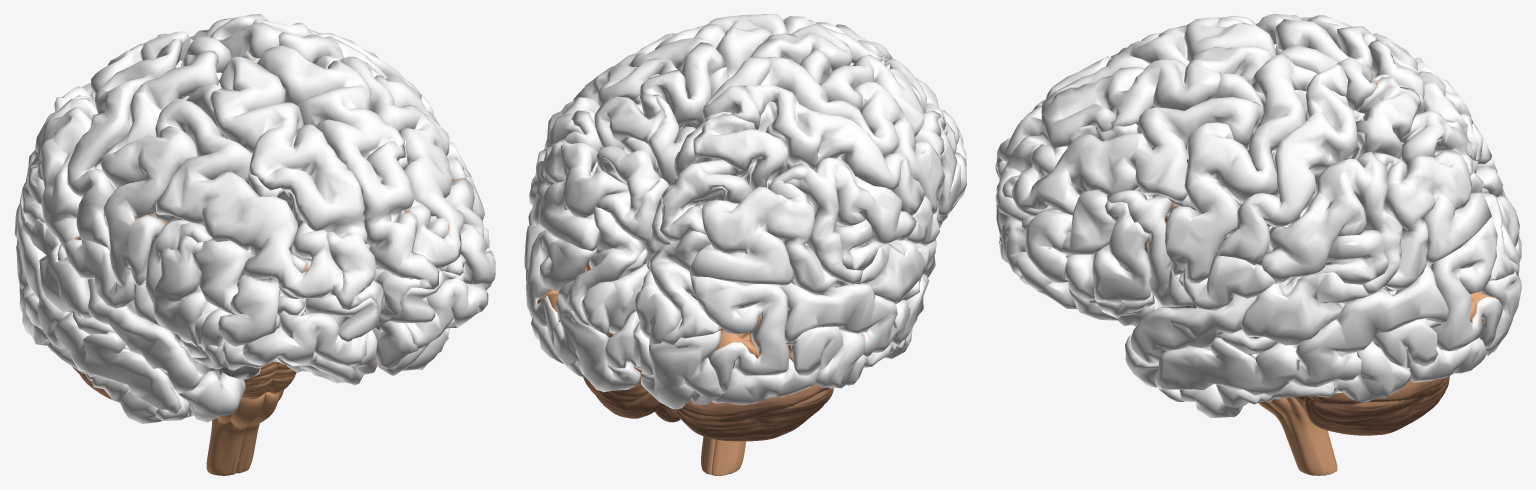
File: Brain.glb
3 views of the same model, side by side, from view 1: azimuth 30°, elevation 25°; view 2: azimuth 150°, elevation 25°; view 3: azimuth 270°, elevation 25° (orthographic). The views are drawn at different scales.
Visible parts, largest first — view 1: Middle frontal gyrus_R, Superior frontal gyrus_R, Superior frontal gyrus_L, Precentral gyrus_R, Middle frontal gyrus_L, Middle temporal gyrus_R, Superior temporal gyrus (Lateral part)_R, Postcentral gyrus_R, Supramarginal gyrus_R, Orbital gyri (Frontomarginal gyrus and sulcus*)_R, Triangular part of inferior frontal gyrus_R, Inferior frontal sulcus_R (+28 smaller); view 2: Angular gyrus_R, Superior parietal lobule_R, Postcentral gyrus_R, Supramarginal gyrus_R, Lateral occipital gyrus (Middle occipital gyrus*)_R, Angular gyrus_L, Precentral gyrus_R, Middle temporal gyrus_R, Superior parietal lobule_L, Cerebellum_R, Occipital pole_R, Middle frontal gyrus_R (+31 smaller); view 3: Middle frontal gyrus_L, Precentral gyrus_L, Middle temporal gyrus_L, Superior frontal gyrus_L, Superior temporal gyrus (Lateral part)_L, Postcentral gyrus_L, Supramarginal gyrus_L, Angular gyrus_L, Inferior temporal gyrus_L, Superior frontal gyrus_R, Superior parietal lobule_L, Lateral occipital gyrus (Middle occipital gyrus*)_L (+26 smaller).
Part boxes in pixels (box(x1,y1,x2,y2)): Middle frontal gyrus_R: box(155, 98, 343, 346); Superior frontal gyrus_R: box(210, 56, 383, 318); Superior frontal gyrus_L: box(242, 45, 439, 330); Precentral gyrus_R: box(101, 50, 219, 286); Middle frontal gyrus_L: box(341, 56, 495, 285); Middle temporal gyrus_R: box(14, 203, 181, 415); Superior temporal gyrus (Lateral part)_R: box(23, 219, 204, 393); Postcentral gyrus_R: box(67, 39, 182, 250); Supramarginal gyrus_R: box(20, 97, 97, 248); Orbital gyri (Frontomarginal gyrus and sulcus*)_R: box(242, 303, 367, 366); Triangular part of inferior frontal gyrus_R: box(153, 235, 207, 346); Inferior frontal sulcus_R: box(153, 203, 252, 314); Angular gyrus_R: box(690, 163, 838, 294); Superior parietal lobule_R: box(660, 113, 788, 243); Postcentral gyrus_R: box(744, 85, 924, 215); Supramarginal gyrus_R: box(784, 157, 916, 284); Lateral occipital gyrus (Middle occipital gyrus*)_R: box(690, 275, 789, 392); Angular gyrus_L: box(531, 110, 628, 251); Precentral gyrus_R: box(760, 56, 944, 214); Middle temporal gyrus_R: box(780, 274, 929, 356); Superior parietal lobule_L: box(594, 94, 666, 229); Cerebellum_R: box(675, 384, 833, 441); Occipital pole_R: box(641, 330, 724, 409); Middle frontal gyrus_R: box(819, 54, 966, 166); Middle frontal gyrus_L: box(1002, 97, 1264, 283); Precentral gyrus_L: box(1165, 53, 1317, 283); Middle temporal gyrus_L: box(1155, 264, 1448, 395); Superior frontal gyrus_L: box(995, 46, 1272, 205); Superior temporal gyrus (Lateral part)_L: box(1130, 272, 1369, 365); Postcentral gyrus_L: box(1214, 63, 1357, 265); Supramarginal gyrus_L: box(1261, 152, 1402, 294); Angular gyrus_L: box(1372, 151, 1491, 291); Inferior temporal gyrus_L: box(1179, 318, 1441, 417); Superior frontal gyrus_R: box(995, 17, 1283, 179); Superior parietal lobule_L: box(1355, 76, 1478, 175); Lateral occipital gyrus (Middle occipital gyrus*)_L: box(1430, 217, 1503, 351).
Bounding box in the file's own units: 0.1452 × 0.1609 × 0.1769.
